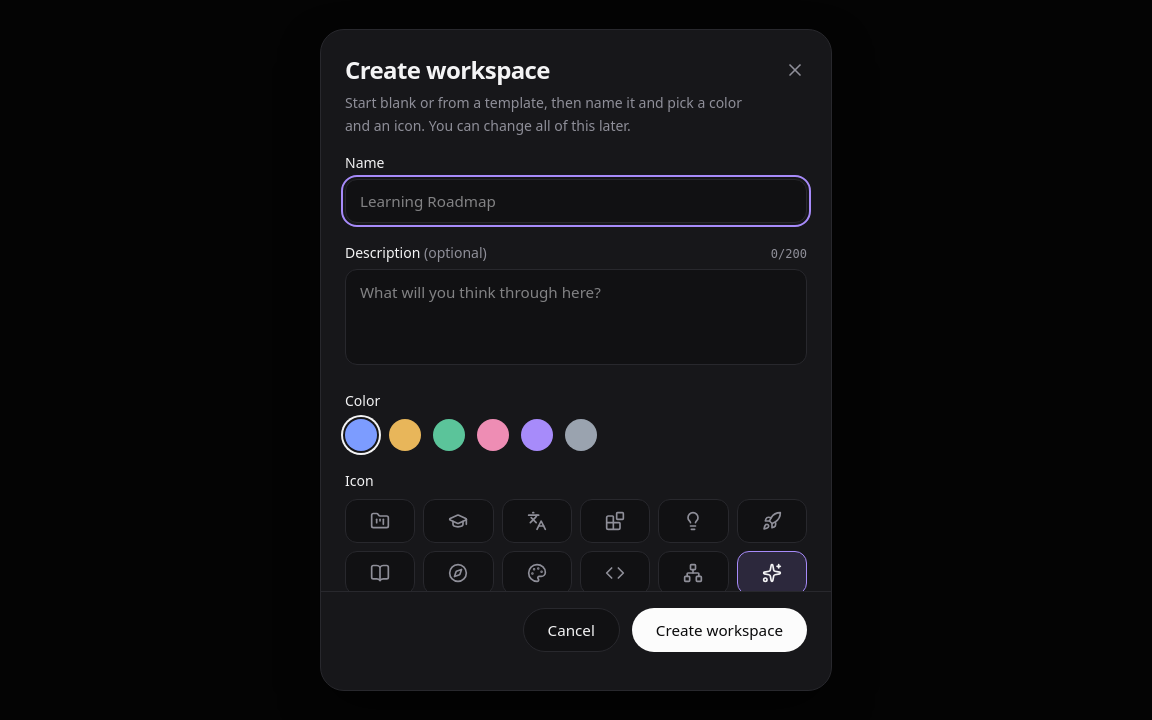
Test: WorkspaceFormDialog templates › keeps the color and icon the user picked when the template changes
Later steps or results of the test are not shown.
(page scrolled)
Click the radio button named "workspace-color".
click(493, 435)  # box [477,419,509,451]
(page scrolled)
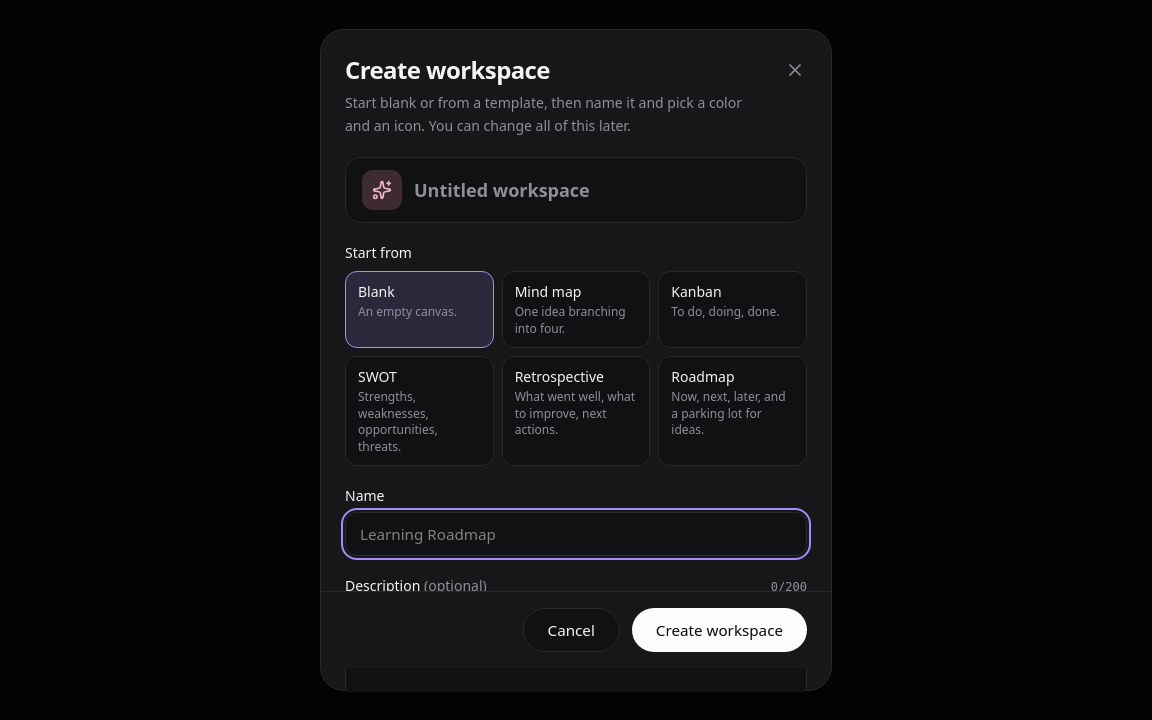
Click the radio button named "workspace-template".
click(733, 310)  # box [658,271,807,348]
(page scrolled)
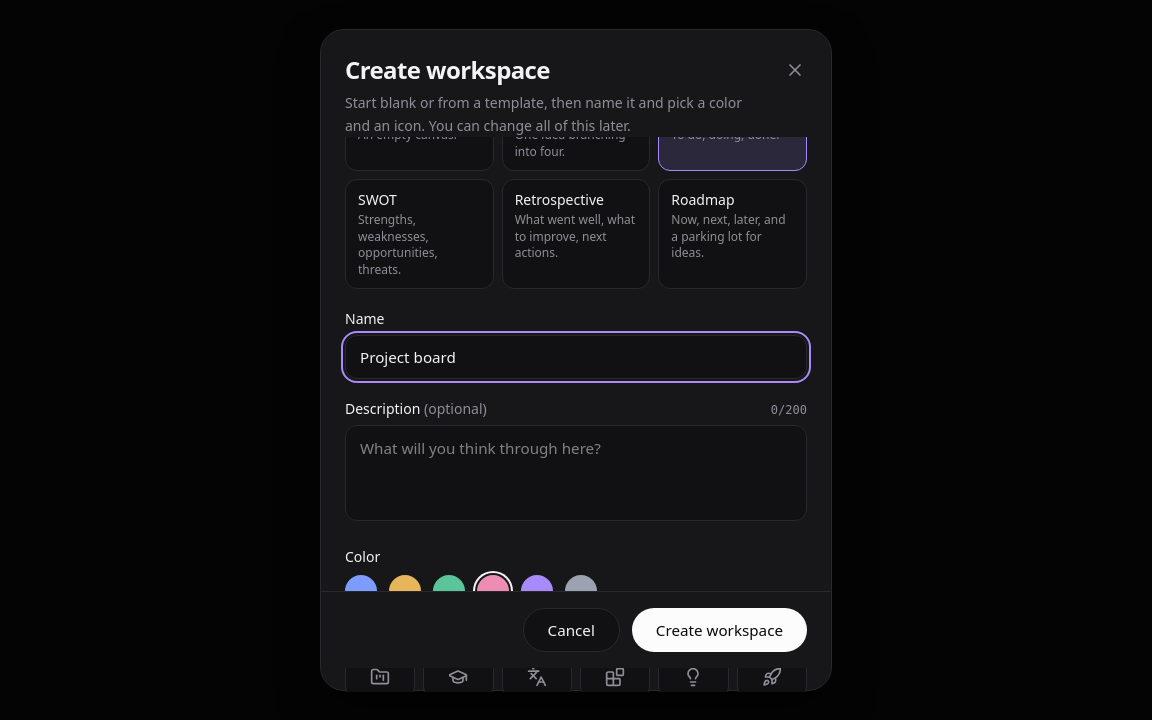
Expected: the field with id "workspace-name" holds "Project board", [345,335,807,379]
